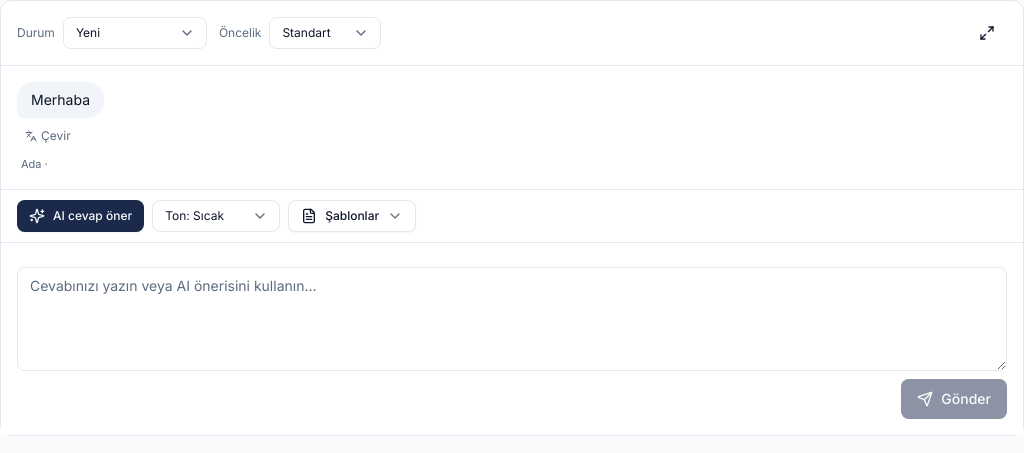
Scenario: Y10 — gelen kutusu yazma alanı: başarılı gönderim YENİ taslağı silmez › KONTROL: araya yazılmazsa alan boşalır
This screenshot has width=1024, height=453.
Type "A cevabı" into the text box with placeholder "Cevabınızı yazın veya AI önerisini kullanın…" at point(512, 318), box [17,266,1007,370]
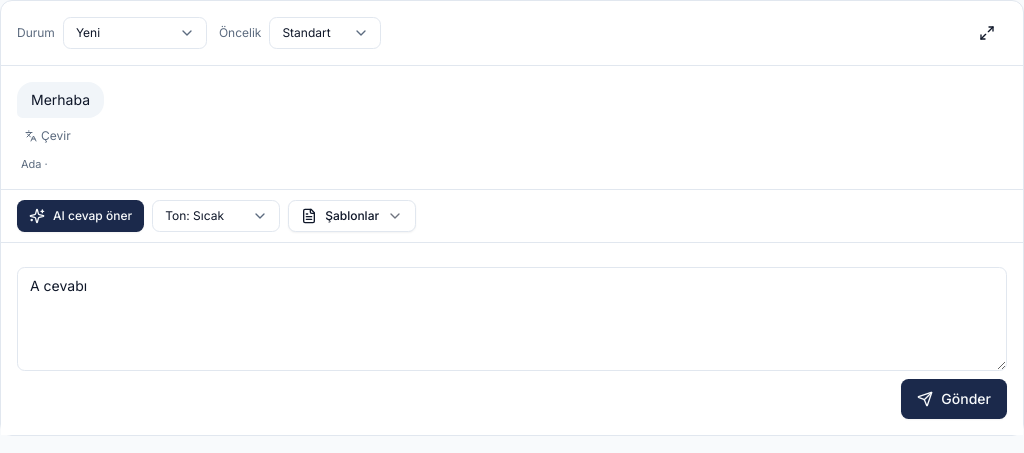
Click the button "Gönder" at point(954, 398), box [901,378,1007,418]
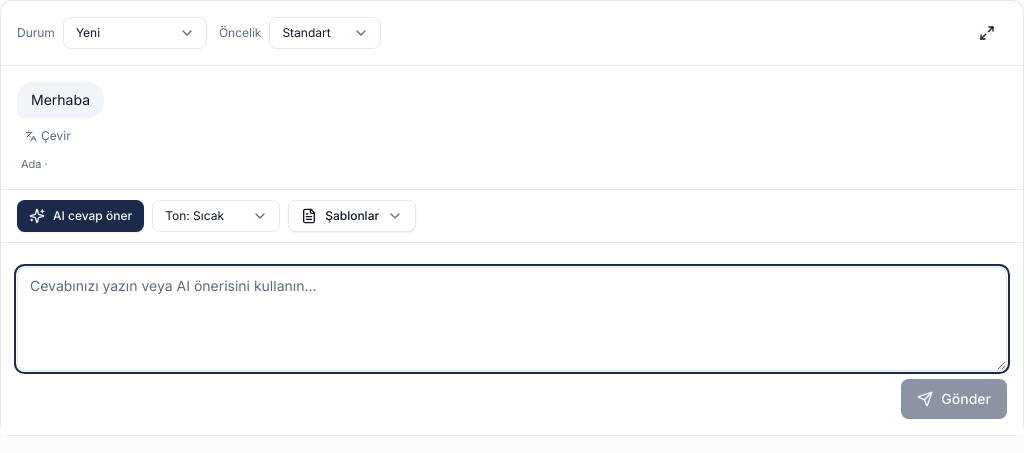
Expected: the text box with placeholder "Cevabınızı yazın veya AI önerisini kullanın…" is empty, [17,266,1007,370]
